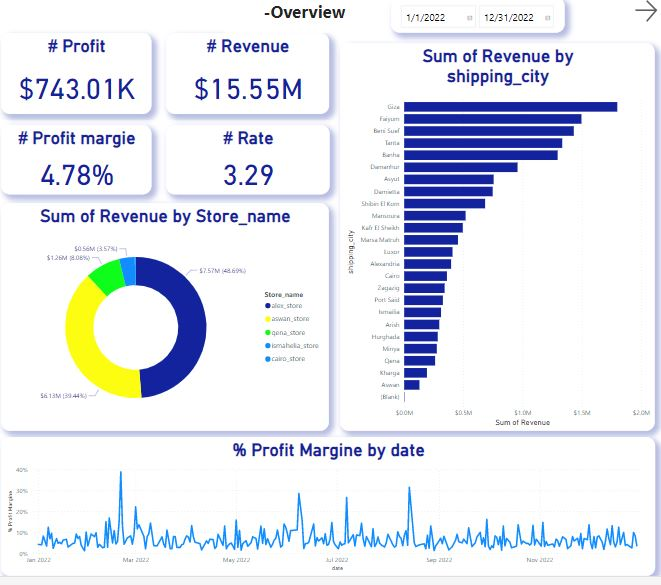

What the dashboard file says about the page in this screenshot:
{"tool":"powerbi","page":{"name":"OVERVIEW","canvas":[1280,1100],"ordinal":0},"visuals":[{"type":"card","title":"# Profit","fields":{"Values":["Sum(FACT_order.Profit)"]},"box":[15.4,68.2,286,154],"z":0},{"type":"card","title":"# Revenue","fields":{"Values":["Sum(FACT_order.Totalsales)"]},"box":[327.8,68.2,310.2,154],"z":1000},{"type":"card","title":"# Profit margie","fields":{"Values":["FACT_order.% Profit Margine"]},"box":[15.9,243.2,286.4,131.8],"z":2000},{"type":"card","title":"# Rate ","fields":{"Values":["Avg(DIM_customer.overall_rate)"]},"box":[329.5,243.2,311.4,131.8],"z":3000},{"type":"clusteredBarChart","fields":{"Category":["FACT_order.shipping_city"],"Y":["Sum(FACT_order.Revenue)"]},"box":[660,88,598.4,737],"z":4000},{"type":"donutChart","fields":{"Y":["Sum(FACT_order.Revenue)"],"Category":["DIM_product.Store_name"]},"box":[15.4,391.6,622.6,433.4],"z":5000},{"type":"lineChart","fields":{"Category":["FACT_order.order_date"],"Y":["FACT_order.% Profit Margine"]},"box":[15.4,836,1243,264],"z":6000},{"type":"textbox","box":[440,0,301.4,68.2],"z":7000},{"type":"slicer","fields":{"Values":["Dim_Date.Date"]},"box":[756.8,0,330,68.2],"z":8000},{"type":"actionButton","box":[1214.4,0,66,52.8],"z":9000}]}

Visuals, with their boxes in screenshot pixels (x1, y1, x2, y2), scaled from the page's 1280x1100 canvas onto the 661x585 screenshot:
"# Profit" card: 8,36,156,118
"# Revenue" card: 169,36,329,118
"# Profit margie" card: 8,129,156,199
"# Rate " card: 170,129,331,199
clusteredBarChart - FACT_order.shipping_city x Sum(FACT_order.Revenue): 341,47,650,439
donutChart - Sum(FACT_order.Revenue) x DIM_product.Store_name: 8,208,329,439
lineChart - FACT_order.order_date x FACT_order.% Profit Margine: 8,445,650,584
textbox: 227,0,383,36
slicer - Dim_Date.Date: 391,0,561,36
actionButton: 627,0,660,28
